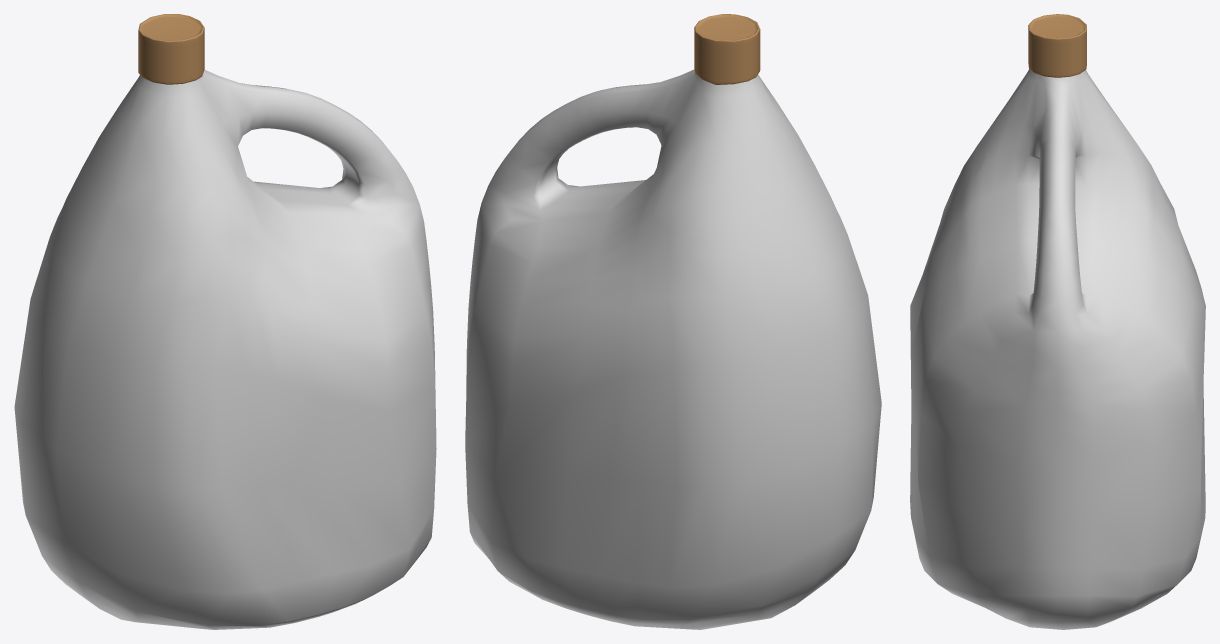
The model's file is Geo_bleachDetergent.fbx.
3 views of the same model, side by side, from view 1: azimuth 30°, elevation 25°; view 2: azimuth 150°, elevation 25°; view 3: azimuth 270°, elevation 25° (orthographic). The views are drawn at different scales.
Parts seen in each view (by area): view 1: bleach_Detergent_LP; view 2: bleach_Detergent_LP; view 3: bleach_Detergent_LP.
Boxes of the visible parts, bbox=[...] form: bleach_Detergent_LP: bbox=[14, 14, 436, 629]; bleach_Detergent_LP: bbox=[465, 14, 881, 629]; bleach_Detergent_LP: bbox=[910, 14, 1205, 629].
Bounding box in the file's own units: 6.52 × 9.67 × 4.83.
